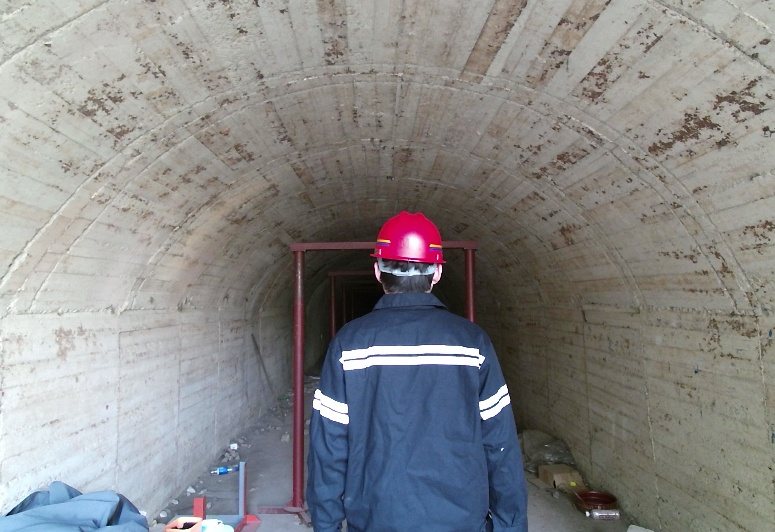person: (308, 209, 554, 532)
